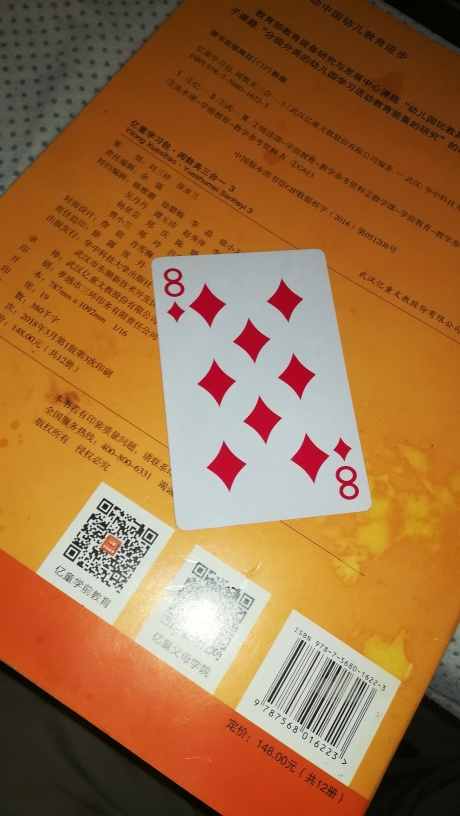fk 8: (151, 248, 376, 533)
